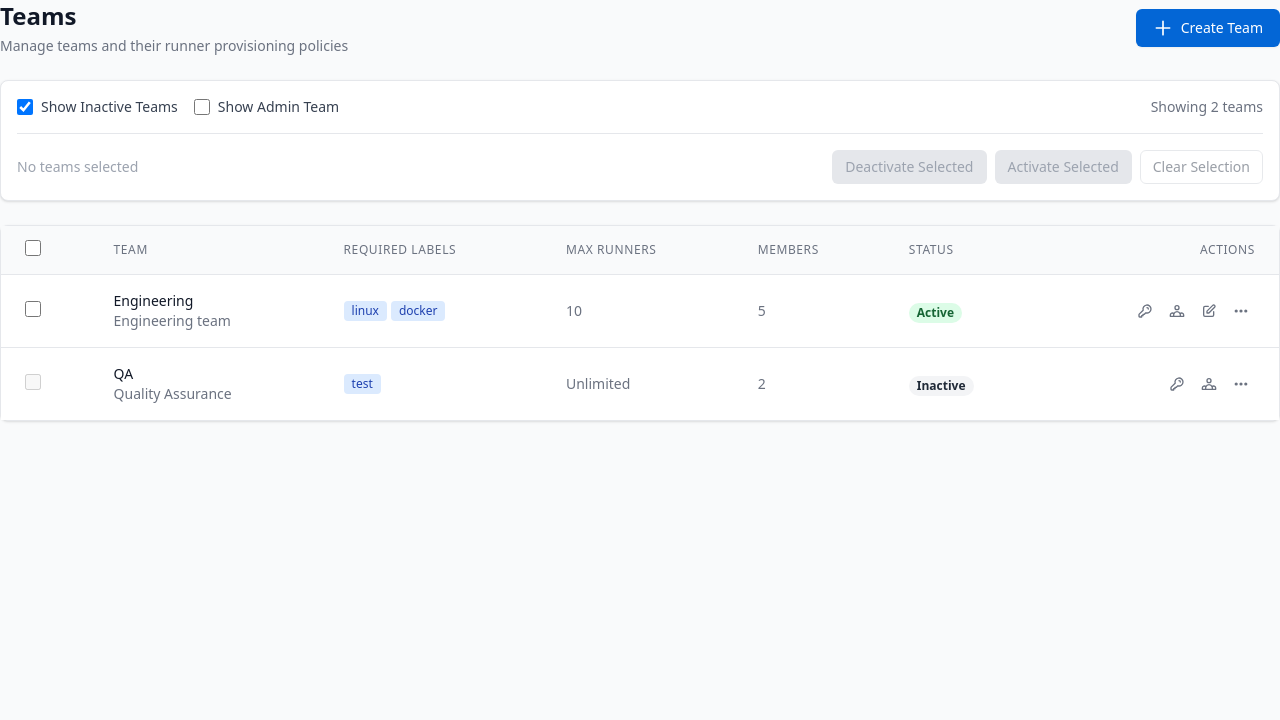
Teams › opens M2M Client panel when M2M Client icon button is clicked
Expected: the text "Engineering" is shown, left=114, top=291, right=193, bottom=310
Click the button named "manage m2m client" in the row of "Engineering team": (1145, 311) left=1131, top=297, right=1159, bottom=325
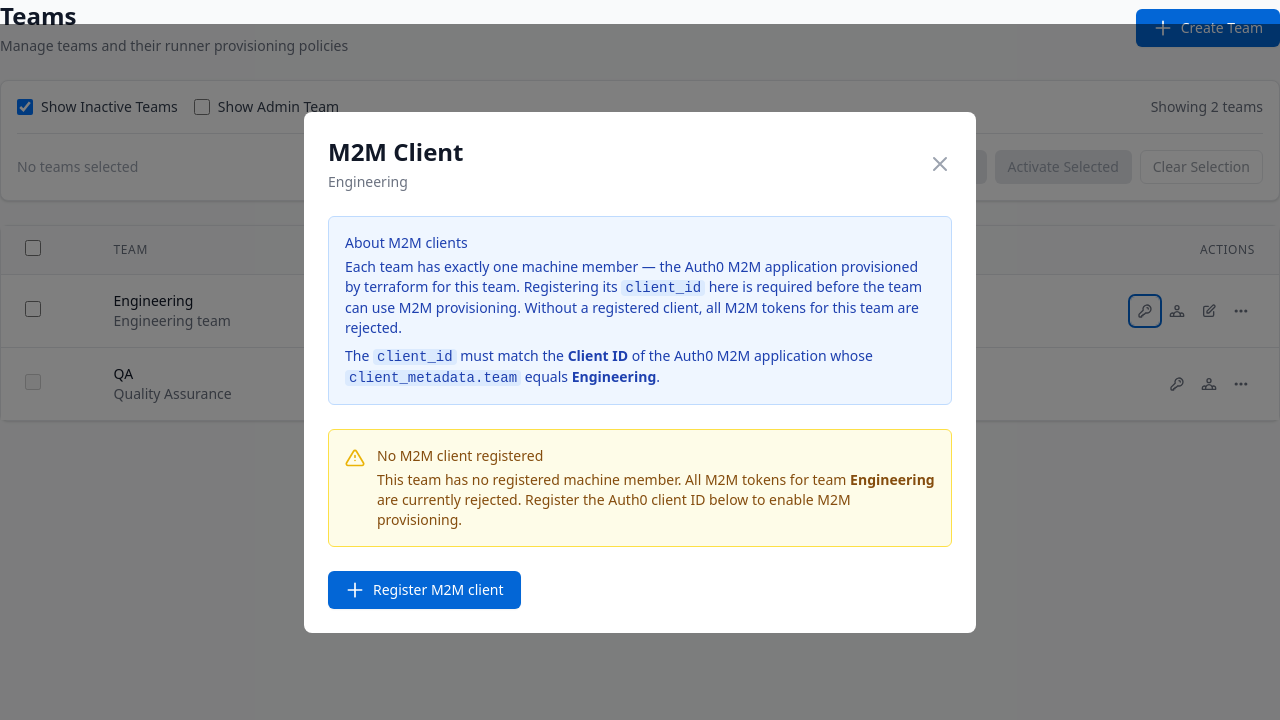
Result: the text "About M2M clients" is shown at left=345, top=232, right=468, bottom=252
